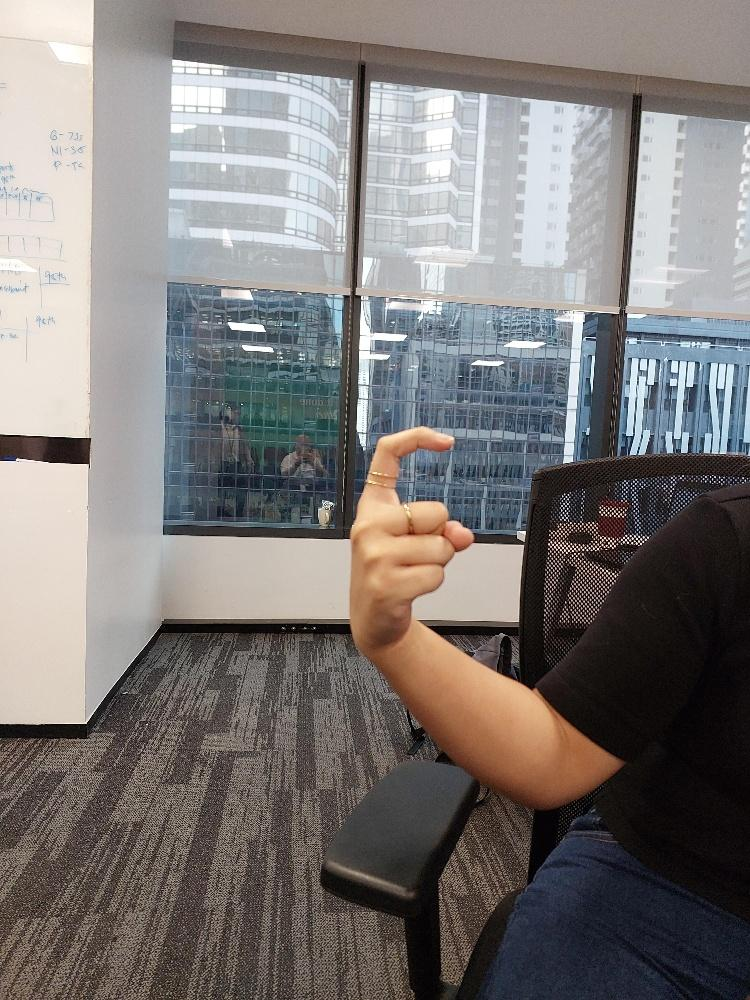x: (345, 424, 475, 645)
